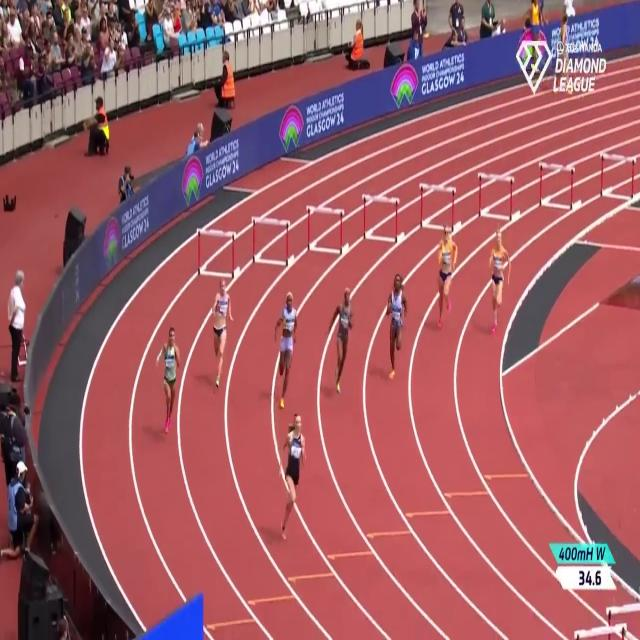athlete: (278, 406, 306, 553), (207, 271, 236, 394), (273, 282, 298, 412), (155, 321, 181, 436), (331, 280, 352, 403), (385, 270, 408, 382), (490, 223, 511, 332), (435, 219, 454, 329)
hurdle: (594, 149, 638, 207), (196, 221, 237, 281), (360, 188, 400, 249), (250, 211, 291, 270), (475, 167, 516, 225), (305, 205, 344, 261), (535, 156, 574, 211), (417, 180, 455, 233)
